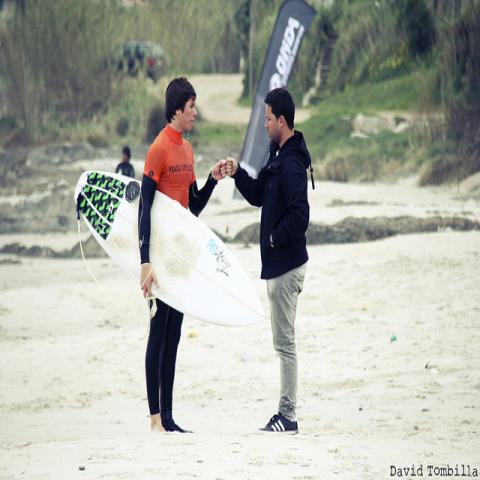car: (109, 42, 174, 82)
